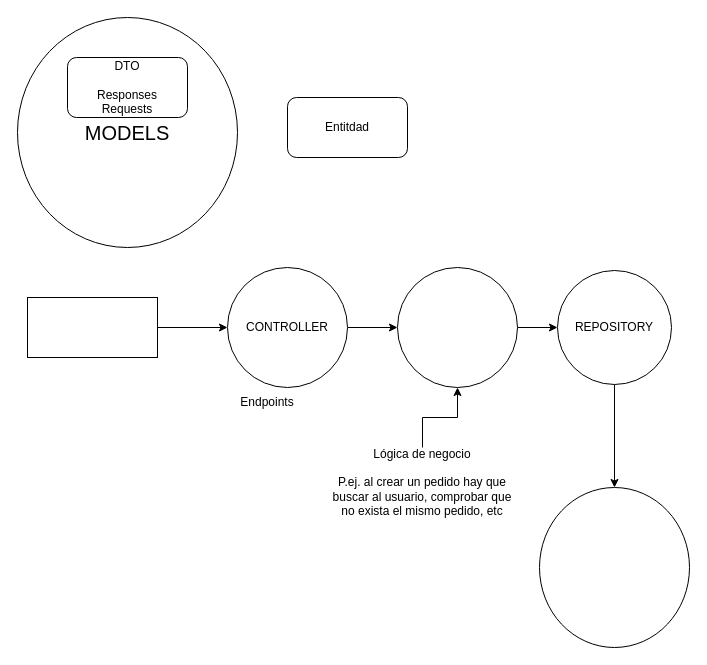
Some shapes in this 707 by 665 pixel diagram are drawn without their labels. Here are the shapes that lost their labels. From the top down, the centre of each, then its label:
(92,327): FE
(457,327): SERVICE
(614,567): DB
